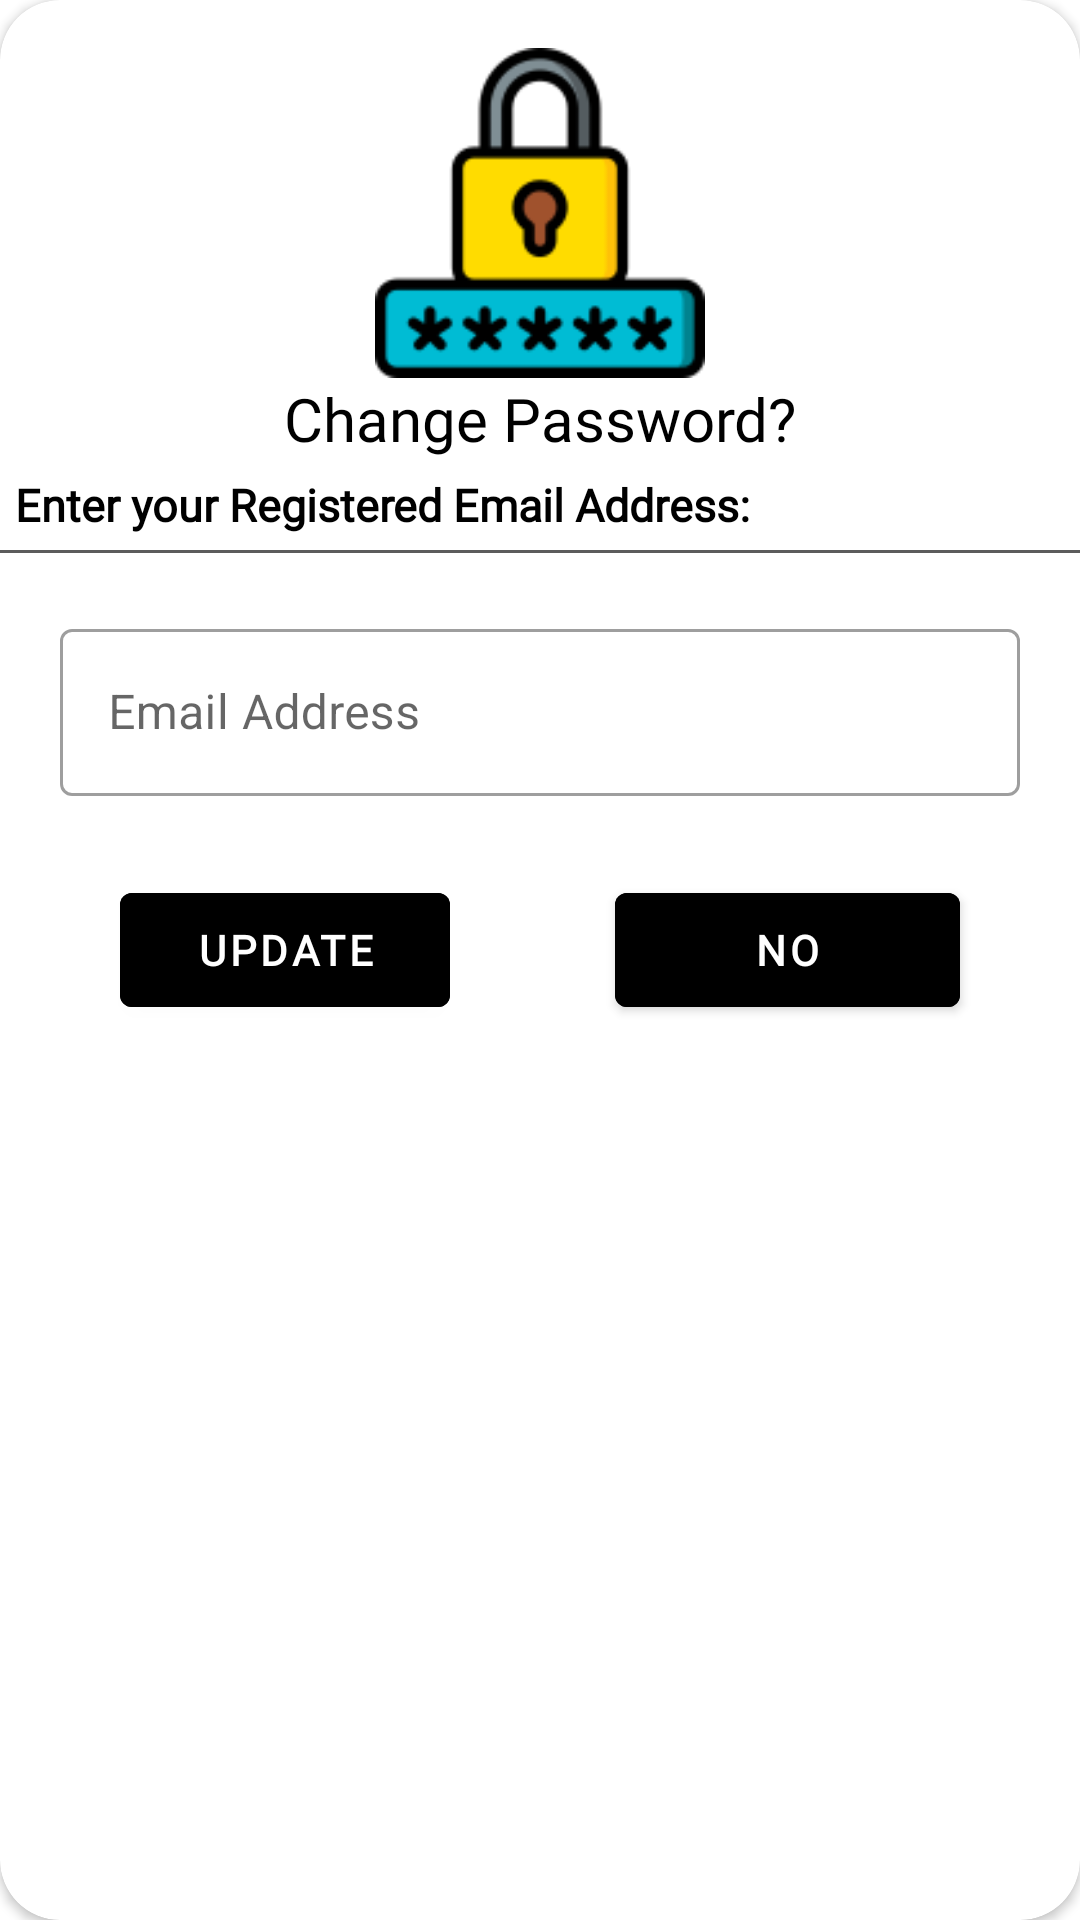

Icons on this 1080 × 1920 Android screen, each with the point to tap as (x,y):
padlock: (540,213)
